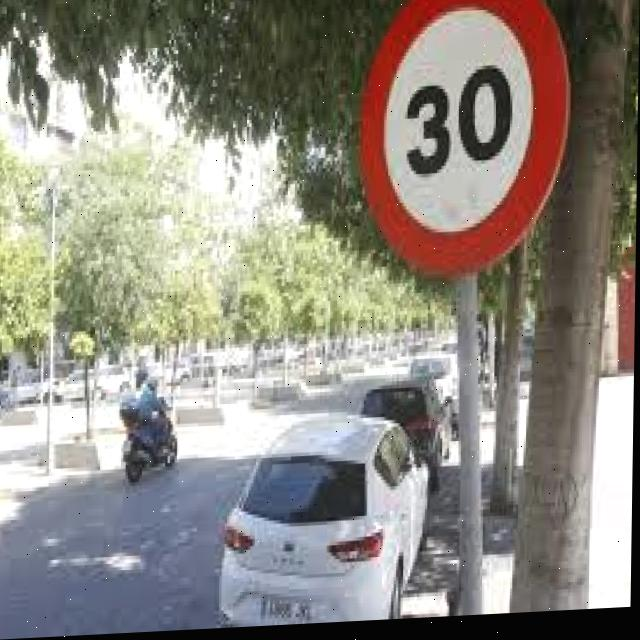Speed limit 30: (355, 1, 575, 290)
